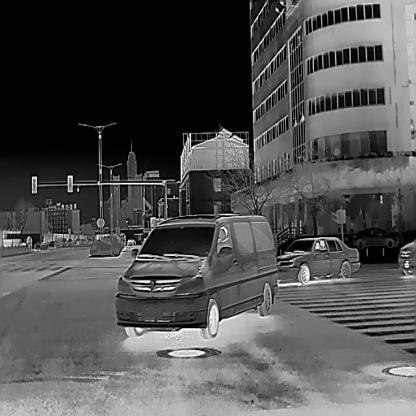car: (115, 211, 278, 339), (276, 236, 360, 284), (352, 226, 403, 247), (398, 240, 415, 275), (126, 238, 137, 245)
